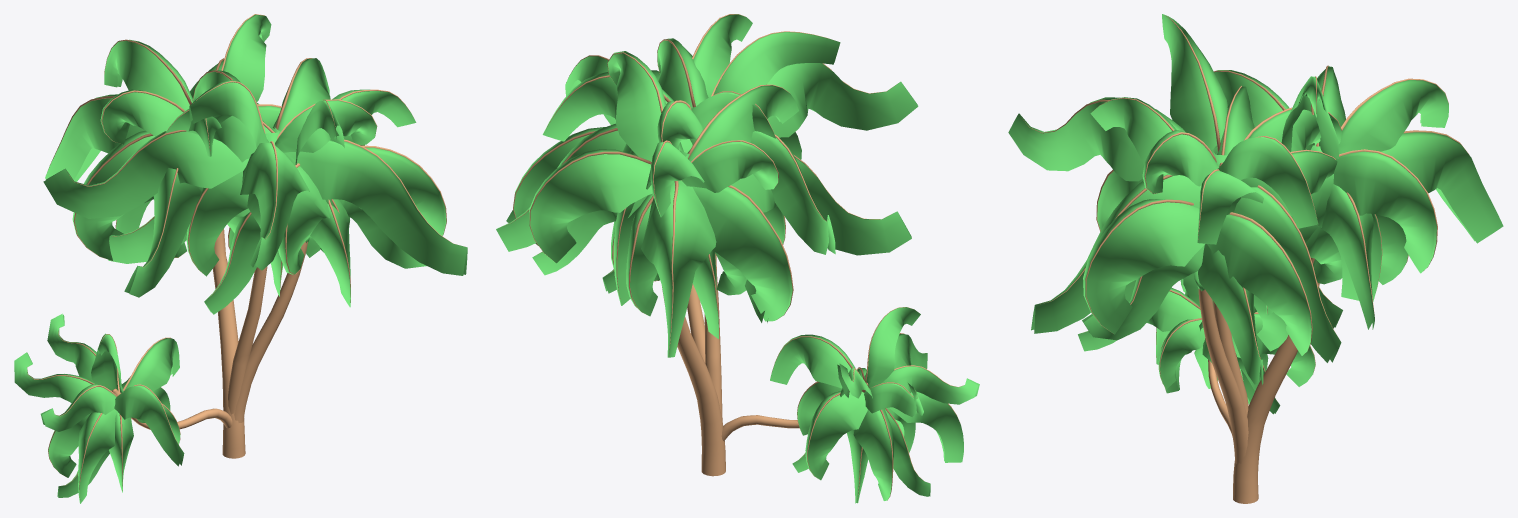
The model's file is Palm Tress.fbx.
The picture shows the model from 3 angles, left to right: view 1: azimuth 30°, elevation 25°; view 2: azimuth 150°, elevation 25°; view 3: azimuth 270°, elevation 25°; orthographic projection. The views are drawn at different scales.
Visible parts, largest first — view 1: Palm_4, Palm_1, Palm_2, Palm_3; view 2: Palm_1, Palm_4, Palm_3, Palm_2; view 3: Palm_2, Palm_1, Palm_4, Palm_3.
Part boxes in pixels (x1,y1,x2,y2): Palm_4: (43, 58, 467, 414); Palm_1: (45, 14, 281, 458); Palm_2: (108, 89, 446, 422); Palm_3: (14, 313, 232, 503); Palm_1: (529, 51, 911, 476); Palm_4: (496, 31, 918, 419); Palm_3: (721, 307, 979, 503); Palm_2: (506, 14, 801, 362); Palm_2: (1082, 86, 1342, 464); Palm_1: (1213, 65, 1503, 503); Palm_4: (1008, 14, 1382, 415); Palm_3: (1078, 273, 1315, 436).
Size of the model in its own units: 1423 by 1344 by 1342.
